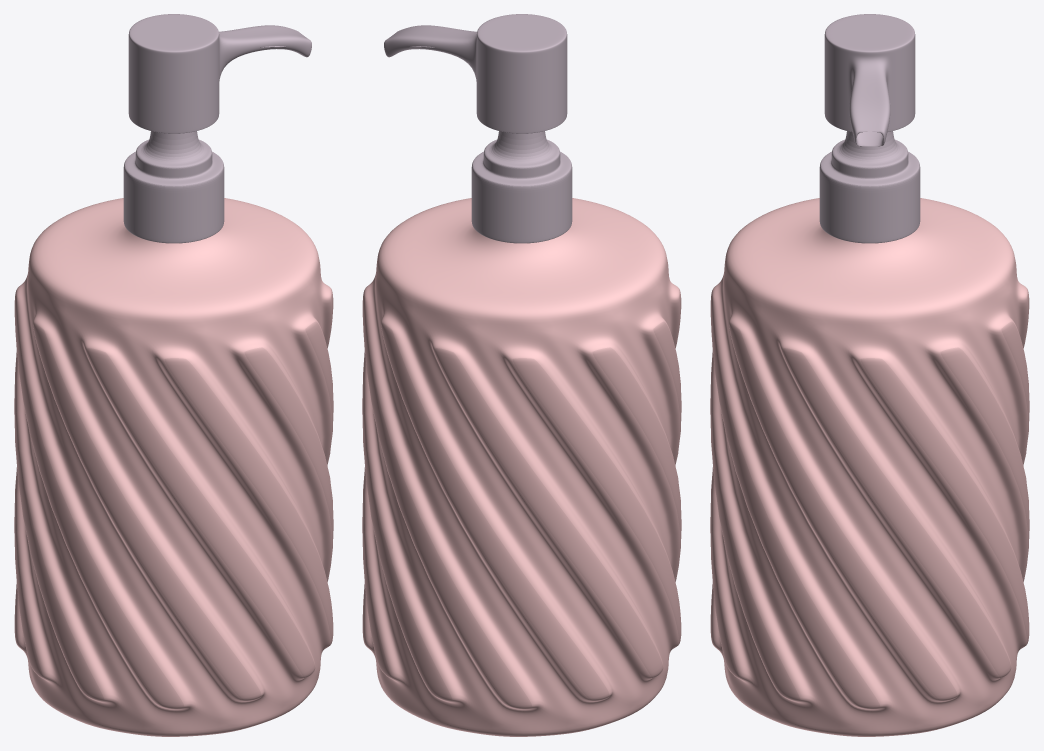
File: soapdispenser.fbx
3 views of the same model, side by side, from view 1: azimuth 30°, elevation 25°; view 2: azimuth 150°, elevation 25°; view 3: azimuth 270°, elevation 25° (orthographic).
Visible parts, largest first — view 1: Cylinder.003; view 2: Cylinder.003; view 3: Cylinder.003.
Boxes of the visible parts, x1,y1,x2,y2 form: Cylinder.003: [14, 14, 333, 736]; Cylinder.003: [362, 14, 681, 736]; Cylinder.003: [710, 14, 1029, 736].
Bounding box in the file's own units: 177 × 399 × 177.
